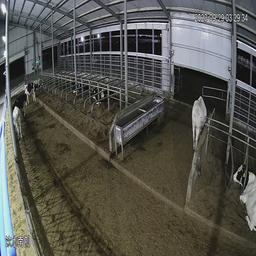cow: (232, 147, 256, 235), (189, 91, 207, 149), (88, 79, 109, 111), (9, 94, 24, 138), (24, 81, 43, 104)
